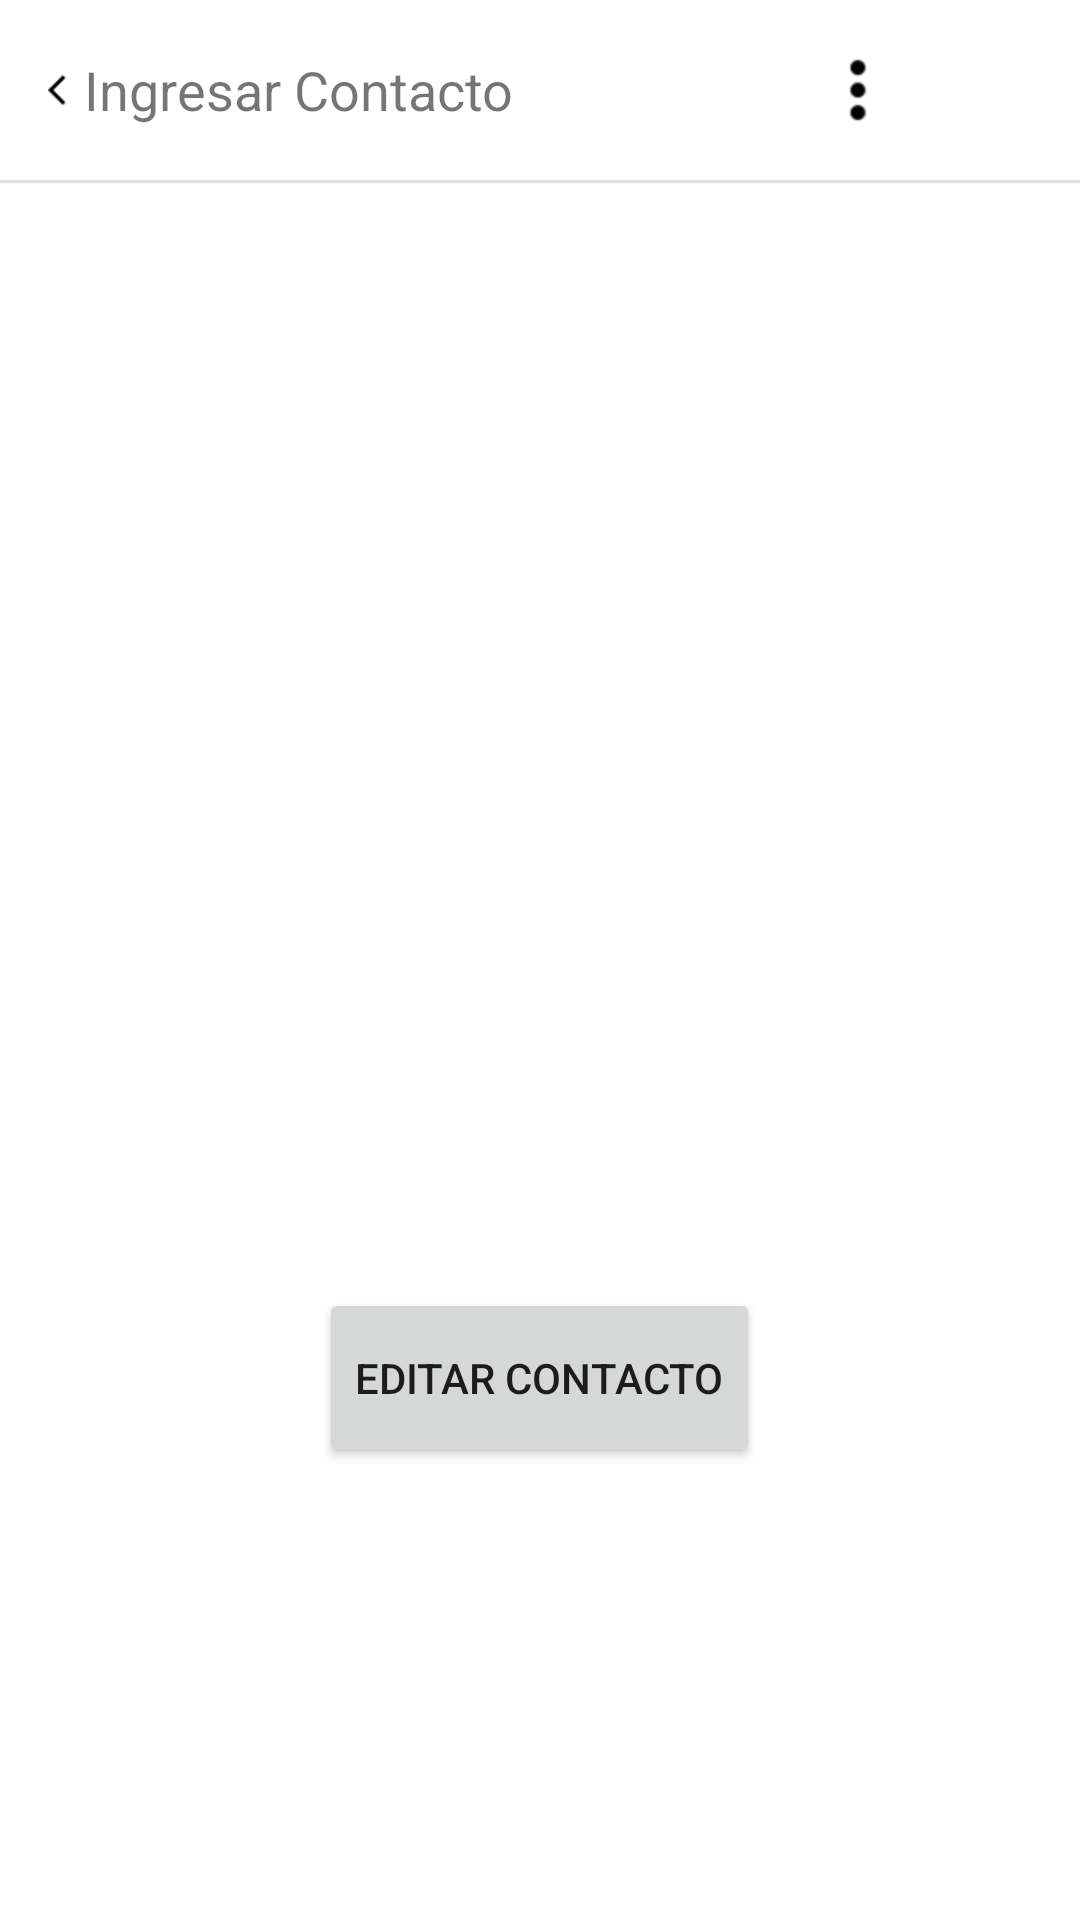

Screen size 1080*1920. Icon name, then its center in pixels as [x,y]:
arrow back: [57,90]
more vert: [858,90]
